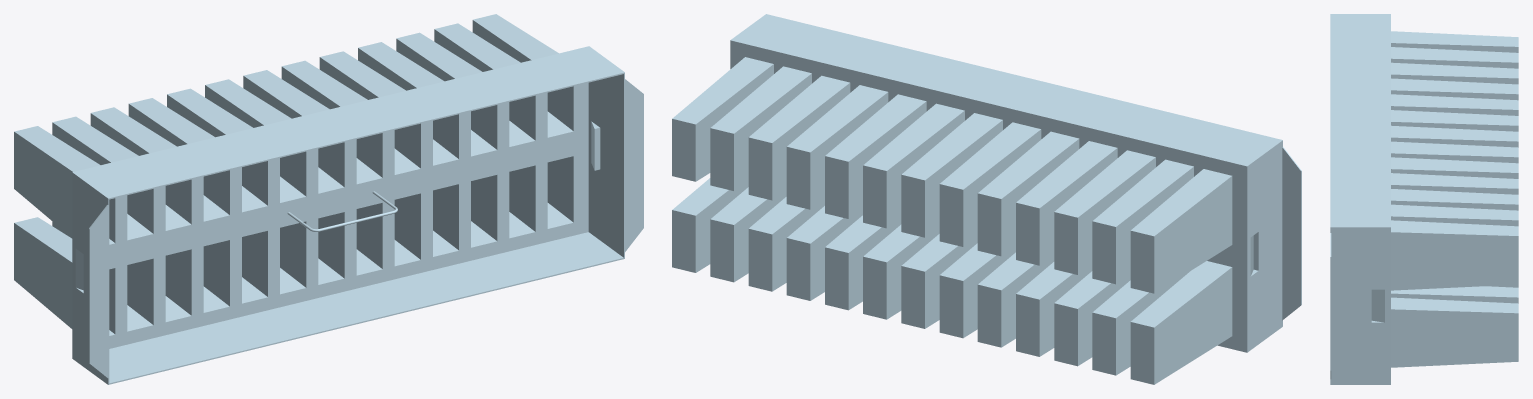
Rendered from Forma 90g.glb.
3 renders of one model, left to right at view 1: azimuth 30°, elevation 25°; view 2: azimuth 150°, elevation 25°; view 3: azimuth 270°, elevation 25°, orthographic. The views are drawn at different scales.
Visible parts, largest first — view 1: Part 1; view 2: Part 1; view 3: Part 1.
Boxes of the visible parts, box(x1,y1,x2,y2) form: Part 1: box(14, 14, 643, 384); Part 1: box(672, 14, 1301, 384); Part 1: box(1330, 14, 1518, 384).
Size of the model in its own units: 0.445 by 0.143 by 0.155.
